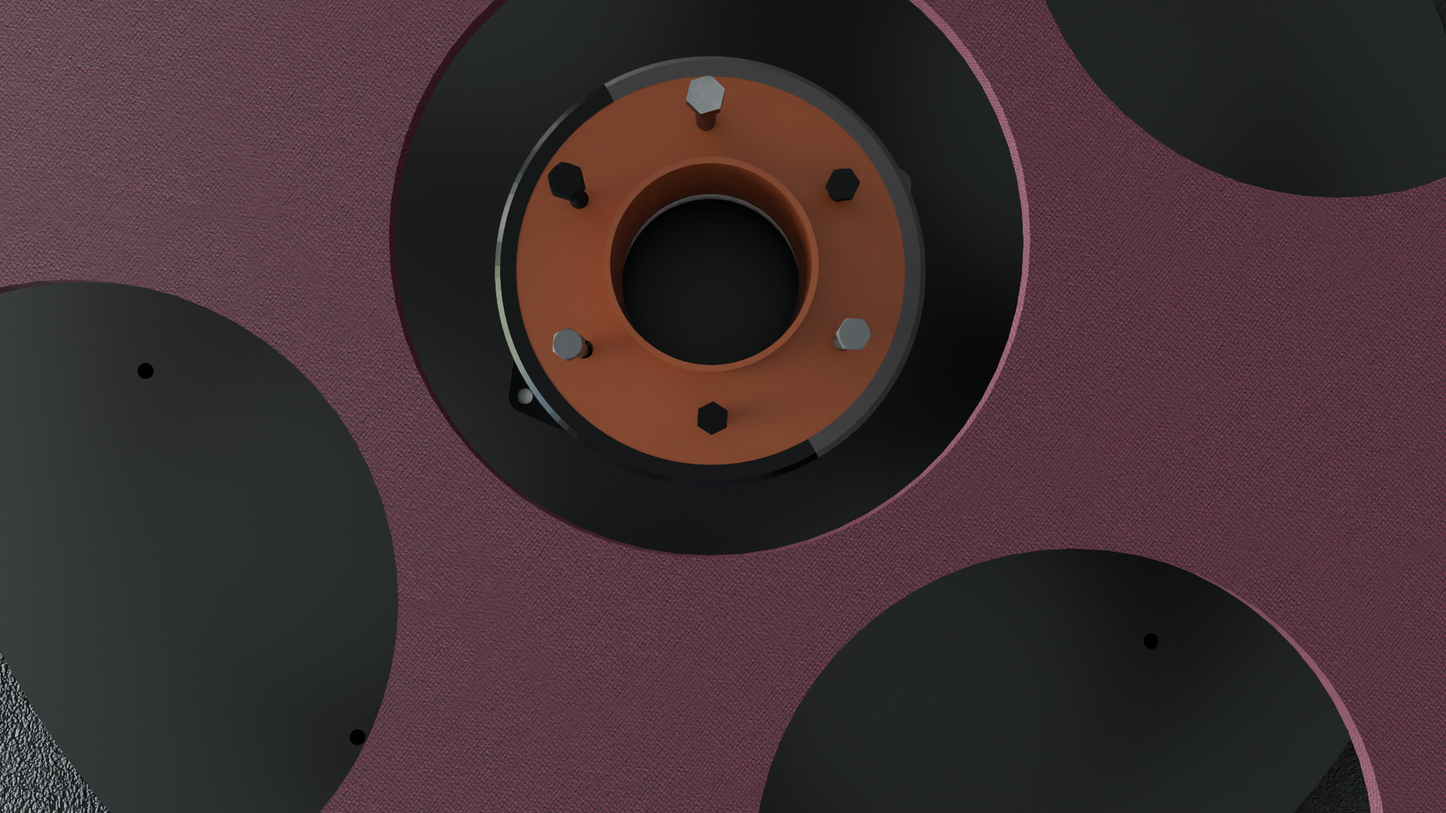bolt: (686, 75, 725, 114), (548, 162, 584, 199), (837, 318, 872, 349), (553, 327, 584, 361), (697, 401, 728, 435), (826, 169, 860, 199)
